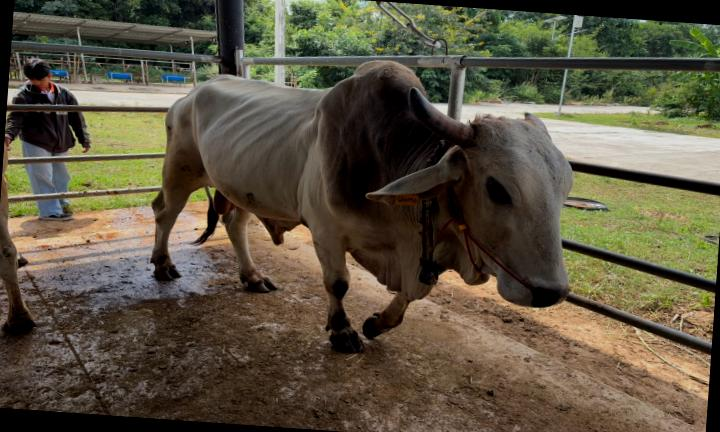Brahman: (151, 60, 572, 352)
